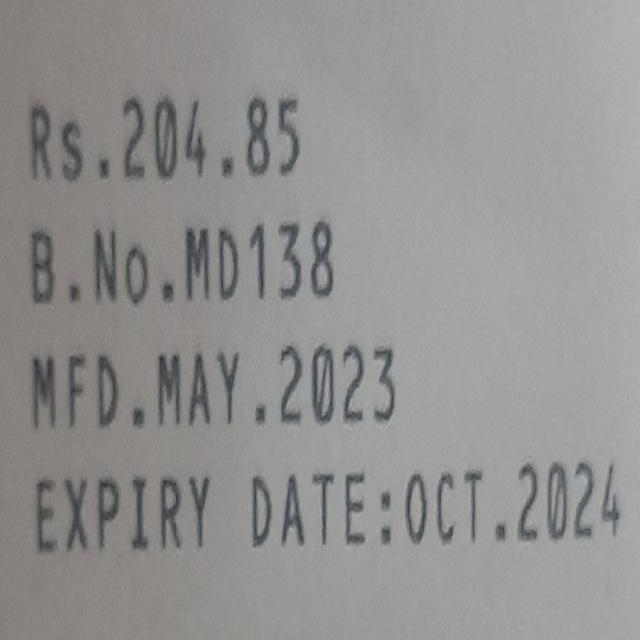sentence: (34, 460, 620, 556), (30, 336, 396, 432), (24, 78, 300, 183), (30, 218, 334, 308)
